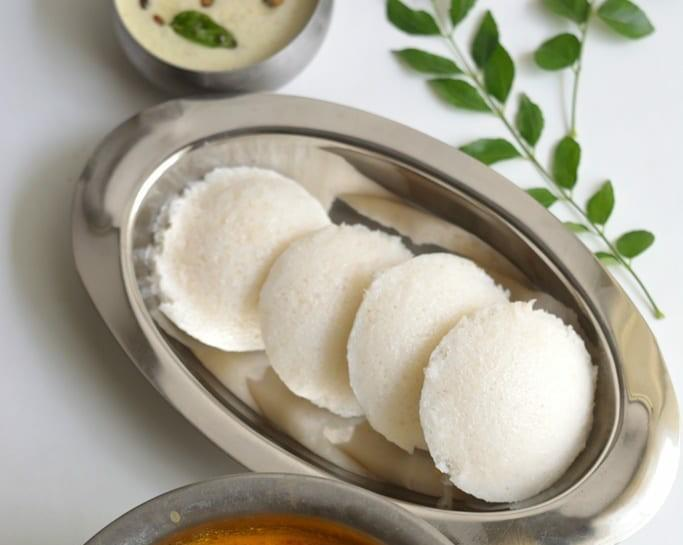CoconutChutney: (115, 0, 319, 72)
Idli: (414, 304, 603, 503), (157, 165, 336, 352), (259, 223, 424, 417), (346, 252, 509, 447)
